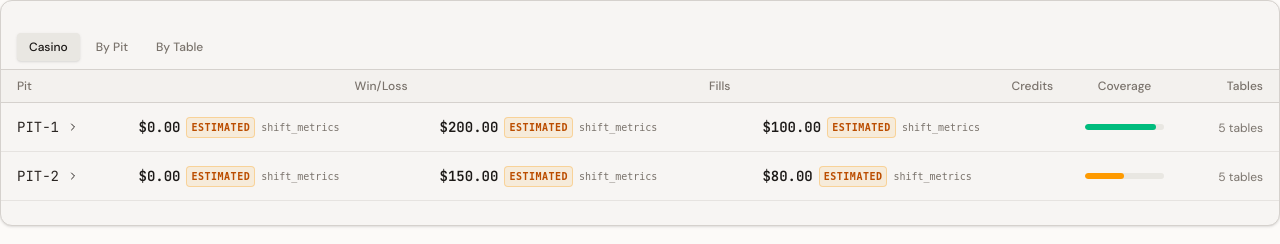
Scenario: MetricsTable › drills down to table view when pit is clicked
Click on PIT-1 to drill down
Click the button "PIT-1" at coordinates (48, 127), box [17, 117, 79, 137]
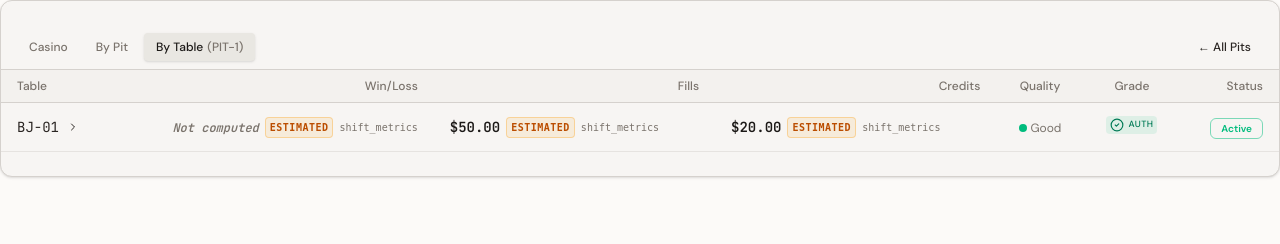
Check: the button "BJ-01" is shown, box [17, 117, 79, 137]
